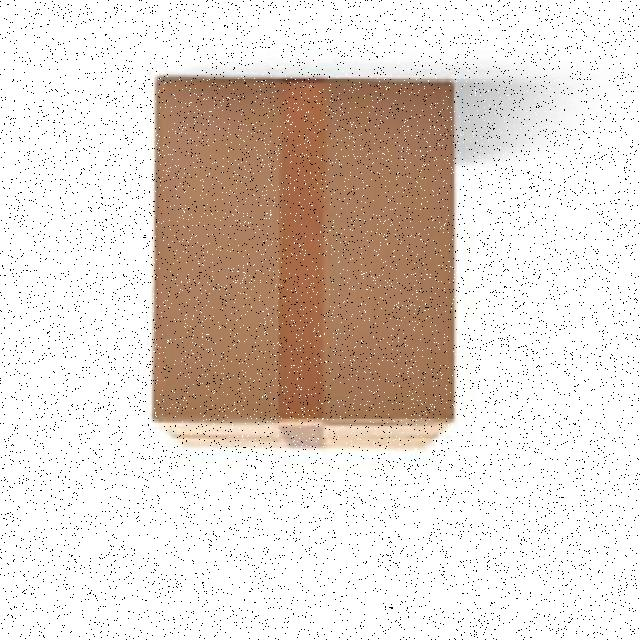normal: (146, 66, 463, 452)
